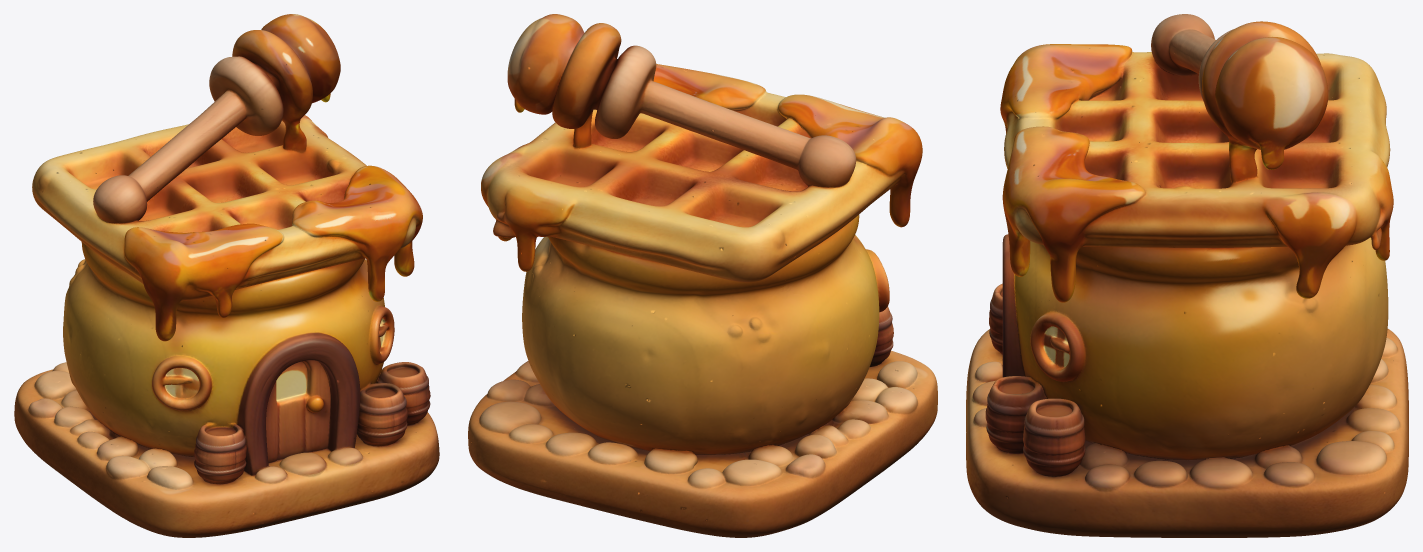
Rendered from honey-pot-tavern.glb.
The picture shows the model from 3 angles, left to right: view 1: azimuth 30°, elevation 25°; view 2: azimuth 150°, elevation 25°; view 3: azimuth 270°, elevation 25°; orthographic projection. The views are drawn at different scales.
Parts seen in each view (by area): view 1: tripo_node_c4875583-a030-438d-889b-76daa1e11e84; view 2: tripo_node_c4875583-a030-438d-889b-76daa1e11e84; view 3: tripo_node_c4875583-a030-438d-889b-76daa1e11e84.
Part boxes in pixels (bbox=[...]): tripo_node_c4875583-a030-438d-889b-76daa1e11e84: bbox=[14, 14, 439, 537]; tripo_node_c4875583-a030-438d-889b-76daa1e11e84: bbox=[468, 14, 937, 537]; tripo_node_c4875583-a030-438d-889b-76daa1e11e84: bbox=[966, 14, 1408, 537].
Bounding box in the file's own units: 0.8265 × 1 × 0.8308.
1 material, 1 textured.
